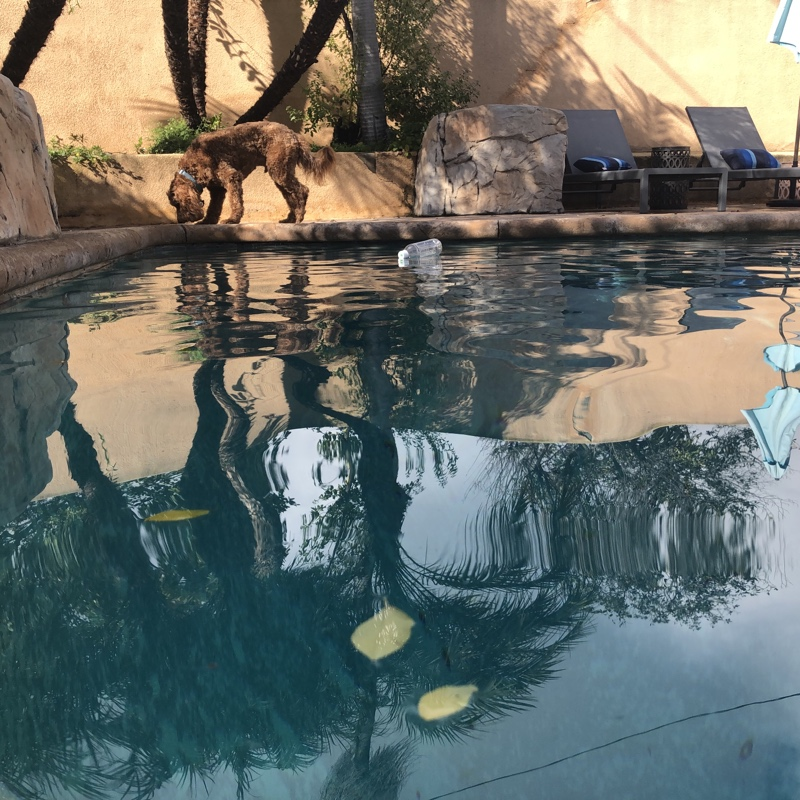Plastic Bottle: (395, 236, 445, 266)
